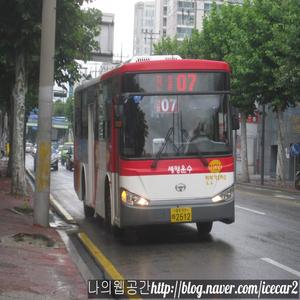07bus: (69, 62, 249, 239)
frontdoor: (101, 97, 123, 231)
